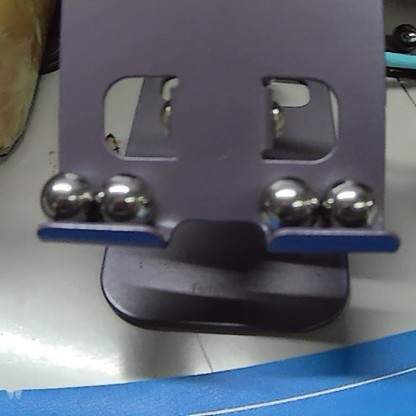ironball: (34, 163, 96, 226), (256, 175, 318, 233), (94, 163, 147, 227), (323, 173, 375, 233), (389, 19, 414, 53)
